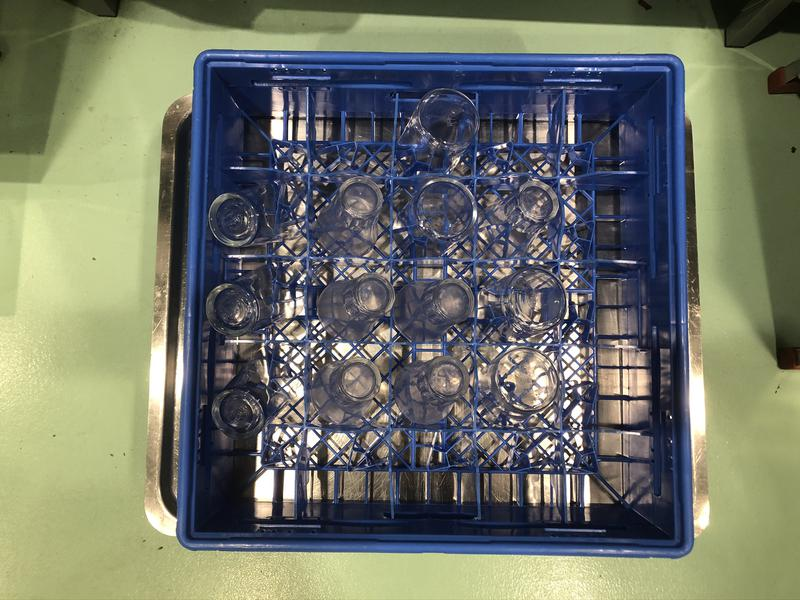Glass: (398, 86, 479, 179), (395, 178, 481, 263), (211, 358, 299, 439), (205, 263, 294, 335), (485, 265, 569, 341), (477, 347, 557, 422), (393, 278, 479, 346), (480, 182, 557, 256), (308, 177, 381, 255), (315, 273, 395, 341), (206, 181, 288, 247), (309, 352, 381, 426), (396, 354, 471, 425)
